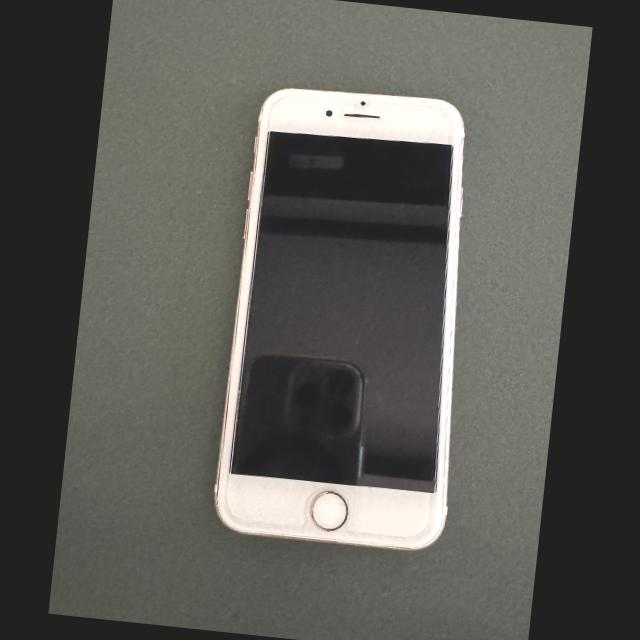lens: (360, 100, 365, 105)
phone: (214, 89, 464, 549)
